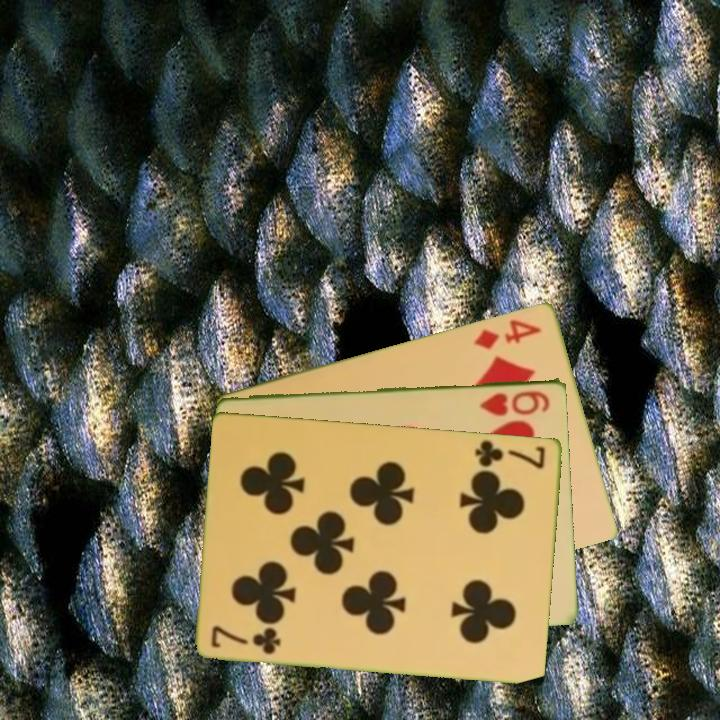4d: (471, 315, 544, 352)
6h: (476, 386, 553, 418)
7c: (208, 622, 285, 657), (472, 436, 548, 471)
